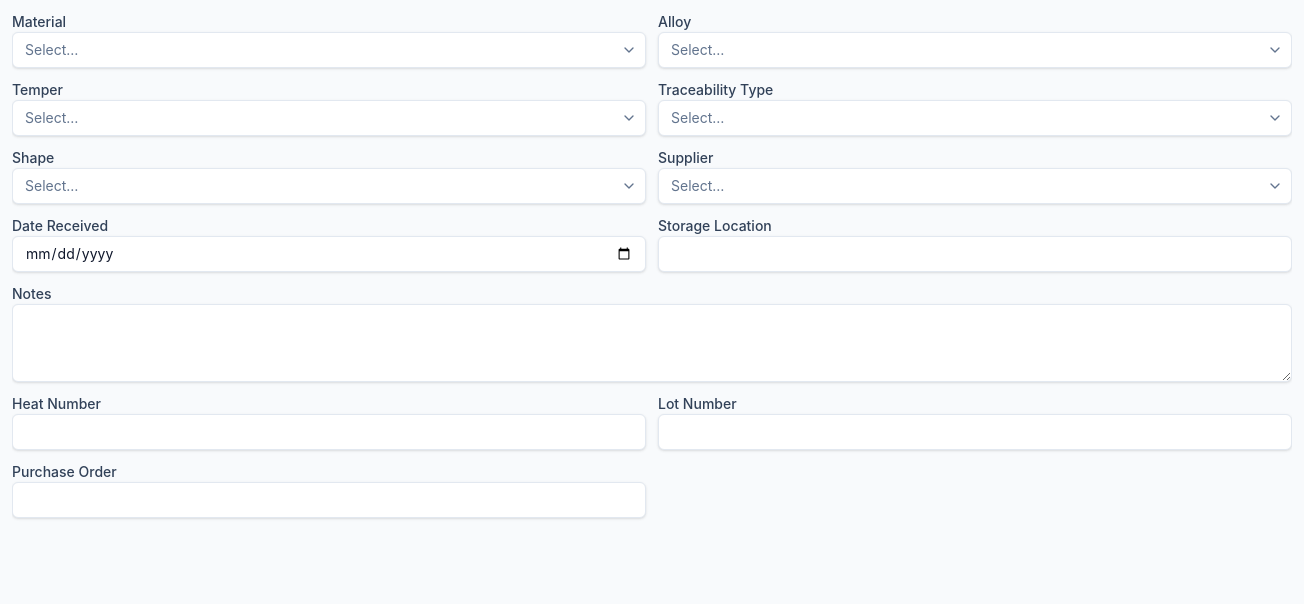
Scenario: MaterialSchemaForm › packs Shape dimensions into one compact group with an in/mm chip
Click the dropdown named "Shape". click: coordinates (52, 186)
box: x1=12 y1=168 x2=646 y2=204
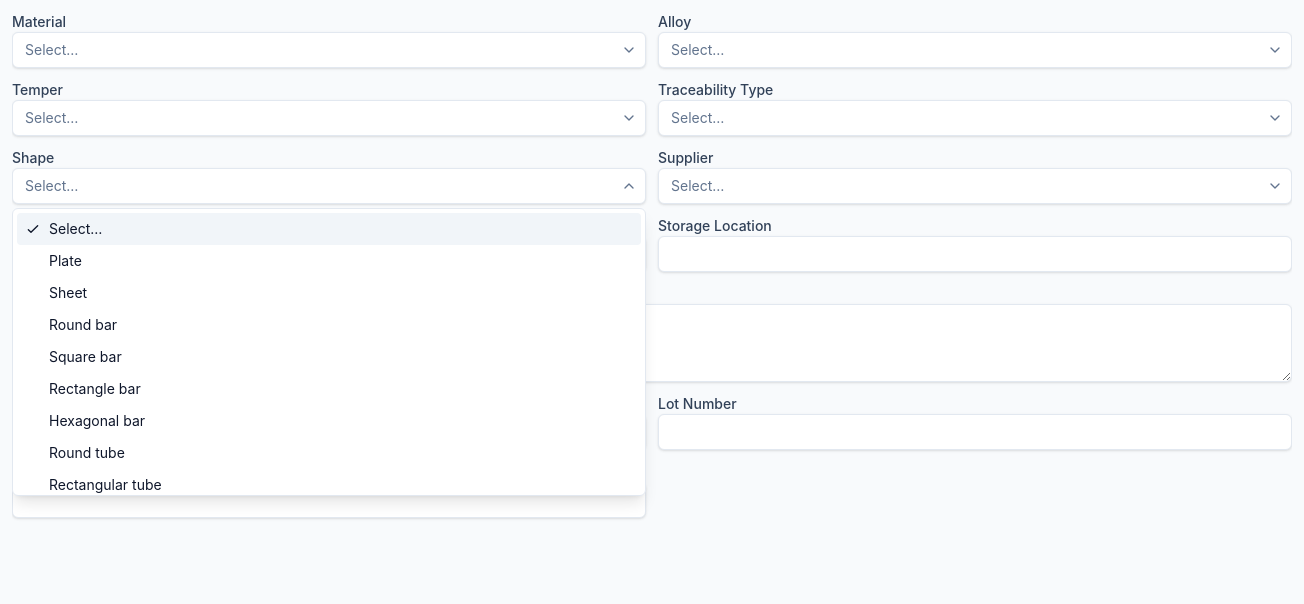
Click the option "Rectangle bar". click: coordinates (95, 388)
box: x1=17 y1=373 x2=641 y2=405
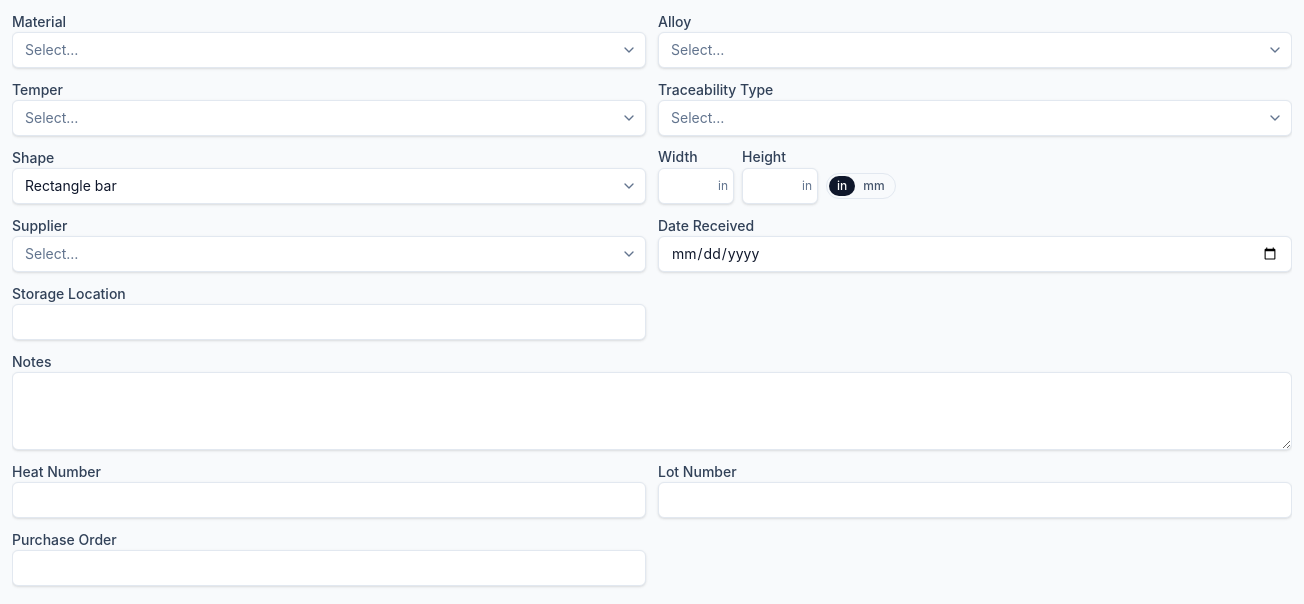
Result: the field labelled "Width" is shown at x1=658 y1=168 x2=734 y2=204
Result: the field labelled "Height" is shown at x1=742 y1=168 x2=818 y2=204
Result: the element named "Size unit" is shown at x1=826 y1=173 x2=896 y2=199
